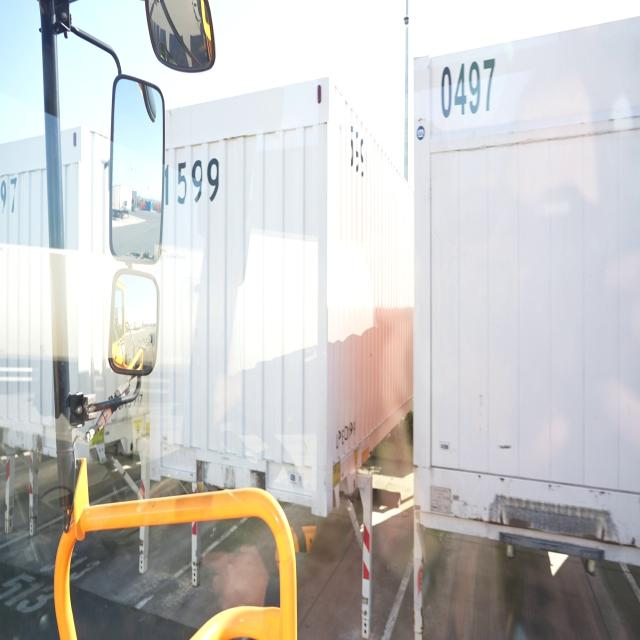Code: (437, 56, 499, 123), (160, 158, 222, 209)
